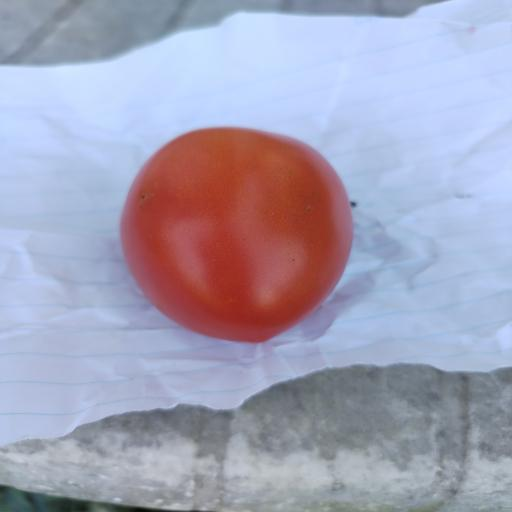ripe: (121, 128, 352, 342)
